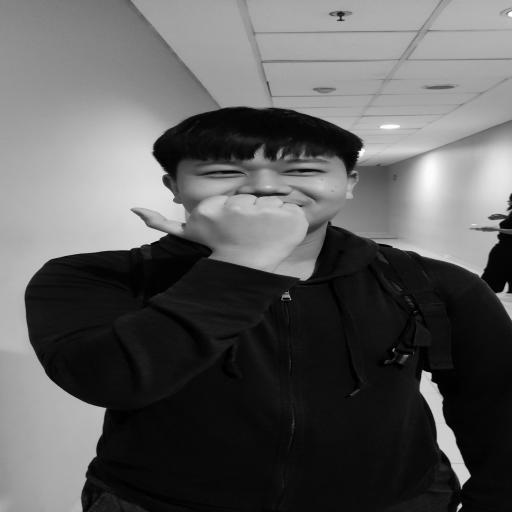back: (117, 192, 348, 279)
